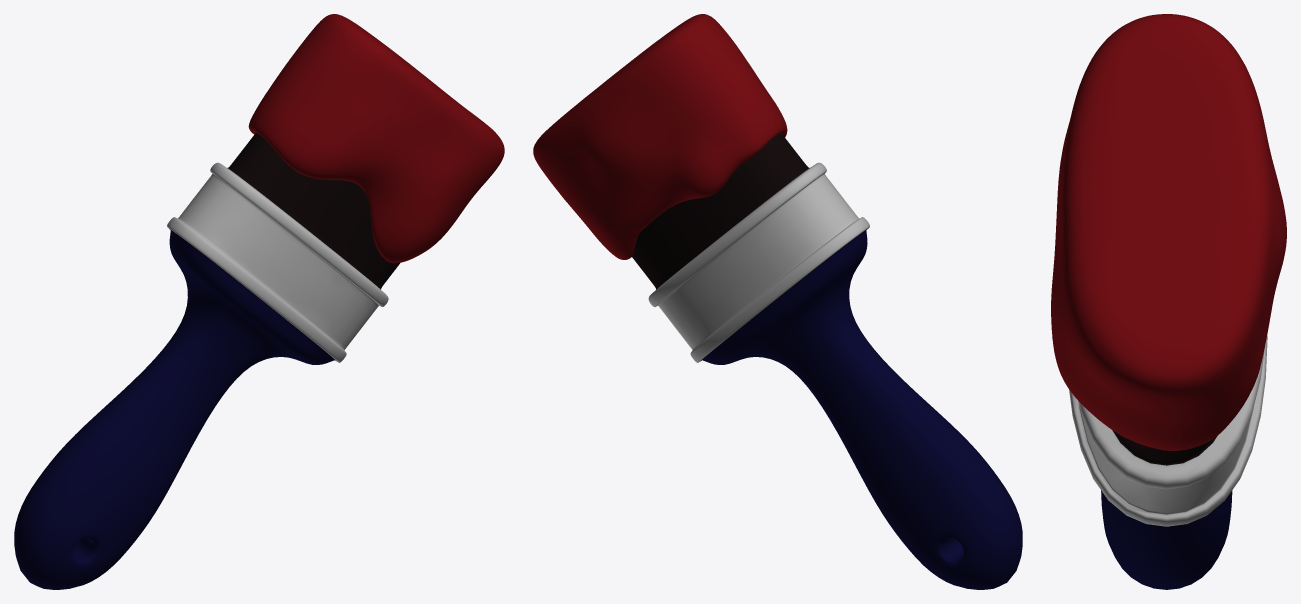
The model's file is brush.glb.
The picture shows the model from 3 angles, left to right: view 1: azimuth 30°, elevation 25°; view 2: azimuth 150°, elevation 25°; view 3: azimuth 270°, elevation 25°; orthographic projection. The views are drawn at different scales.
Visible parts, largest first — view 1: Cube.039; view 2: Cube.039; view 3: Cube.039.
Part boxes in pixels (<box>): Cube.039: <box>14,14,504,589</box>; Cube.039: <box>533,14,1022,589</box>; Cube.039: <box>1051,14,1286,589</box>.
Bounding box in the file's own units: 1.85 × 1.85 × 0.5148.
